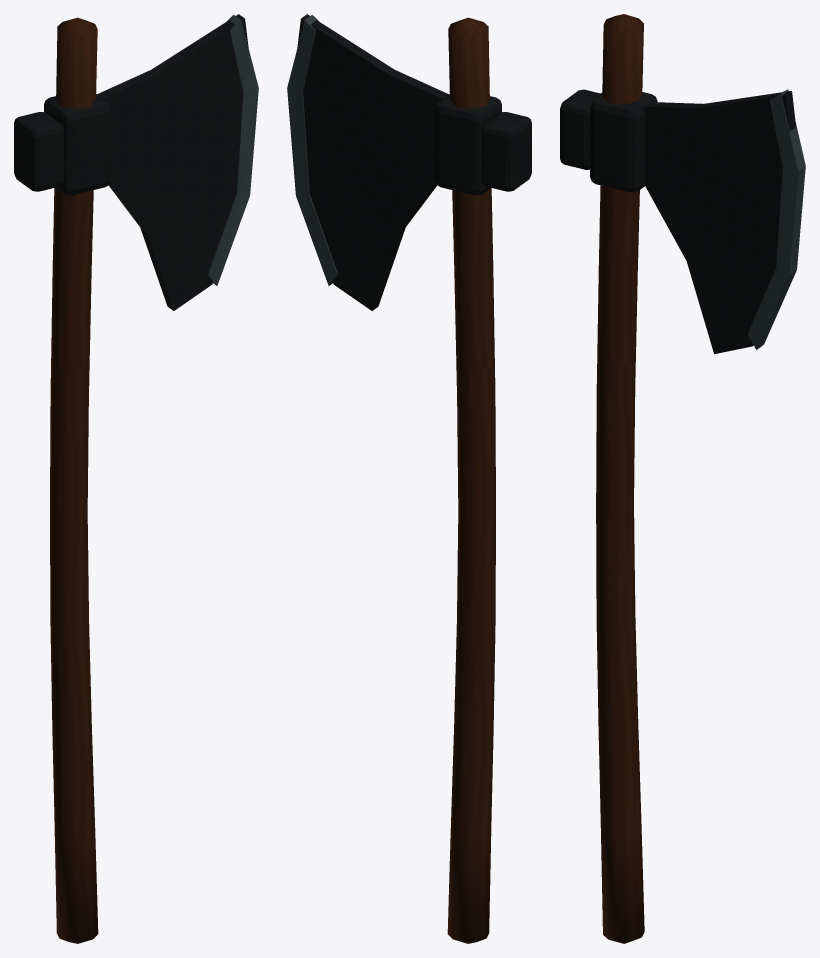
The model's file is bearded_axe.glb.
3 renders of one model, left to right at view 1: azimuth 30°, elevation 25°; view 2: azimuth 150°, elevation 25°; view 3: azimuth 330°, elevation 25°, orthographic.
Parts seen in each view (by area): view 1: AshHaft, BeardedBlade, Eye, PolishedEdge, Poll; view 2: AshHaft, BeardedBlade, Eye, PolishedEdge, Poll; view 3: AshHaft, BeardedBlade, PolishedEdge, Eye, Poll.
Part boxes in pixels (x1,y1,x2,y2): AshHaft: [50, 17, 98, 943]; BeardedBlade: [97, 14, 248, 310]; Eye: [44, 94, 111, 195]; PolishedEdge: [208, 15, 258, 285]; Poll: [14, 112, 64, 191]; AshHaft: [447, 17, 495, 943]; BeardedBlade: [297, 14, 448, 310]; Eye: [434, 94, 501, 195]; PolishedEdge: [287, 15, 337, 285]; Poll: [481, 112, 531, 191]; AshHaft: [596, 14, 644, 943]; BeardedBlade: [643, 91, 795, 354]; PolishedEdge: [747, 89, 805, 349]; Eye: [590, 92, 657, 192]; Poll: [560, 89, 600, 169].
Bounding box in the file's own units: 0.212 × 0.8079 × 0.04.
3 materials, 3 textured.
